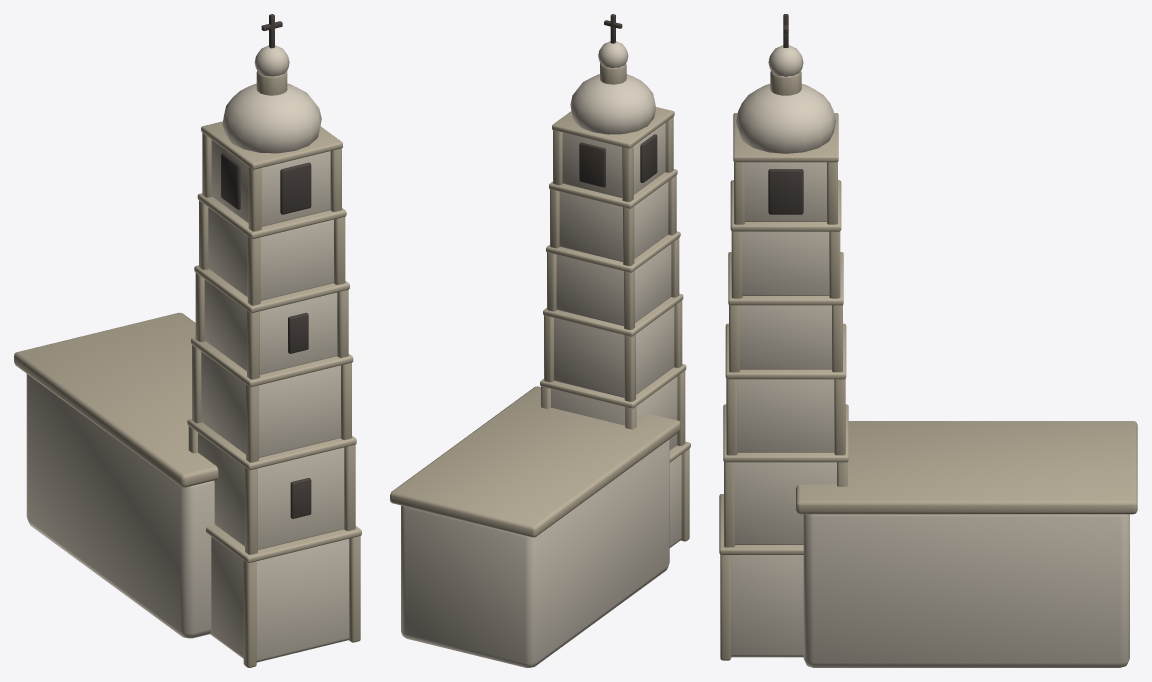
Rendered from clerigos.glb.
3 views of the same model, side by side, from view 1: azimuth 30°, elevation 25°; view 2: azimuth 150°, elevation 25°; view 3: azimuth 270°, elevation 25° (orthographic). The views are drawn at different scales.
Parts seen in each view (by area): view 1: clerigos; view 2: clerigos; view 3: clerigos.
Part boxes in pixels (left/top/right/bottom): clerigos: left=14, top=14, right=361, bottom=667; clerigos: left=390, top=14, right=690, bottom=667; clerigos: left=719, top=14, right=1137, bottom=667.
Bounding box in the file's own units: 3.9 × 13.6 × 8.33.
